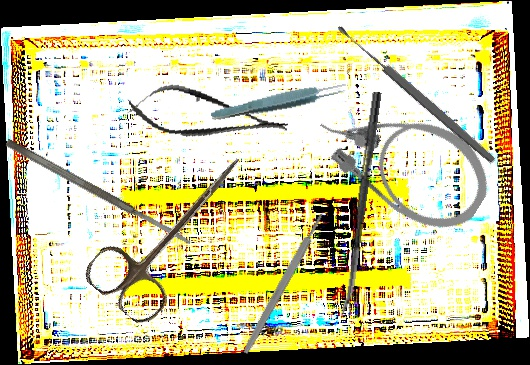Cannula: (303, 71, 505, 247)
Iris Scissors: (79, 129, 268, 330)
Micro Scissor: (124, 76, 292, 156)
Scalpel Handle: (240, 210, 327, 357)
Spatula Surgical: (4, 137, 193, 248)
Surgical Spoon: (335, 22, 498, 166), (340, 91, 382, 317)
Tissue Forceps: (209, 78, 349, 126)
